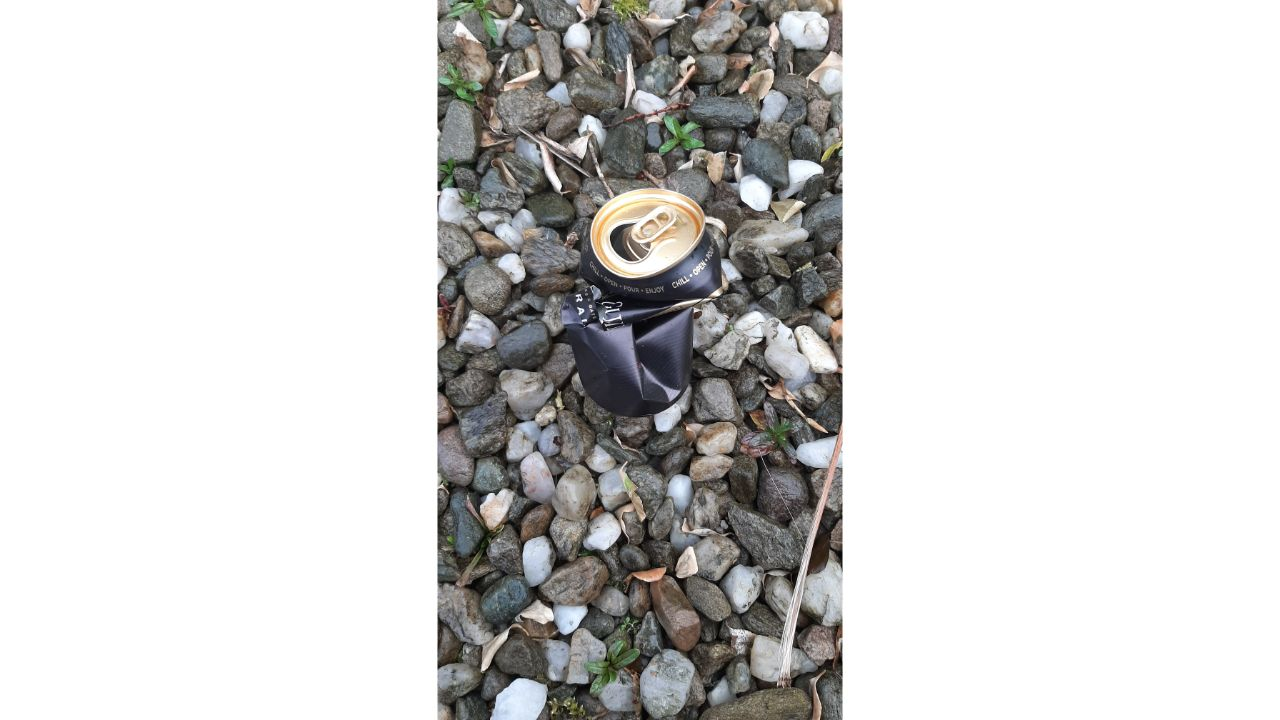Can: (561, 188, 722, 417)
